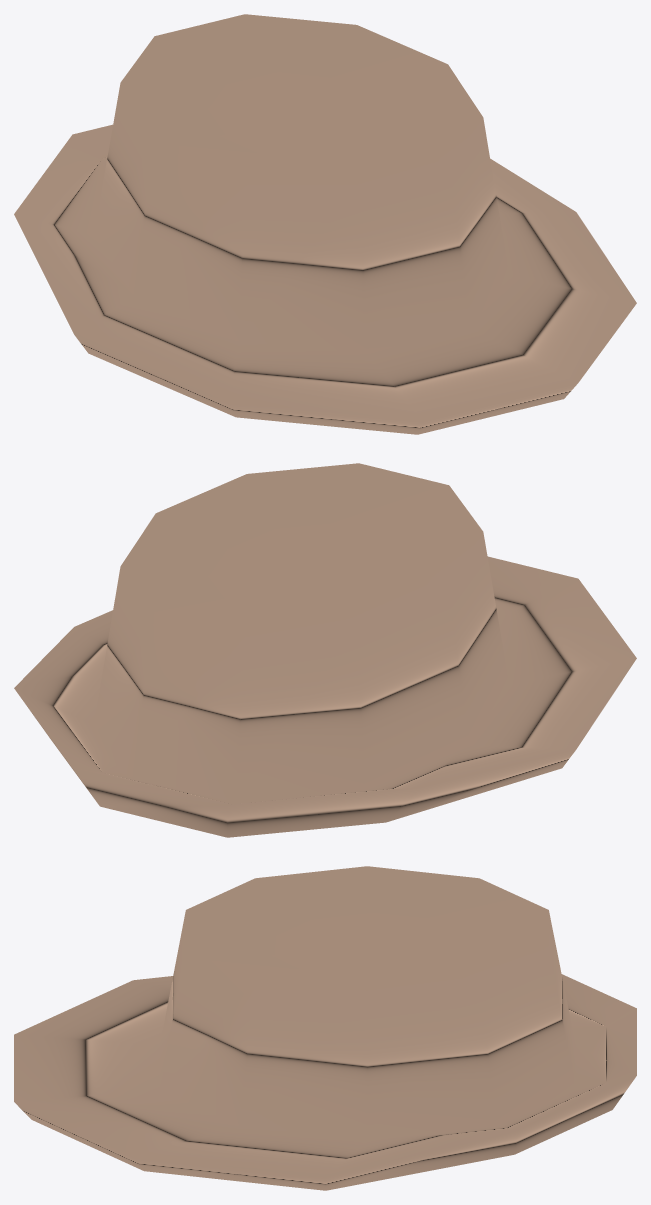
The model's file is Fedora.fbx.
The picture shows the model from 3 angles, top to bottom: view 1: azimuth 30°, elevation 25°; view 2: azimuth 150°, elevation 25°; view 3: azimuth 270°, elevation 25°; orthographic projection. The views are drawn at different scales.
Visible parts, largest first — view 1: Fedora; view 2: Fedora; view 3: Fedora.
Boxes of the visible parts, x1,y1,x2,y2 form: Fedora: (14,14,636,434); Fedora: (14,463,636,837); Fedora: (14,866,636,1190).
Bounding box in the file's own units: 2 × 0.6795 × 2.42.
